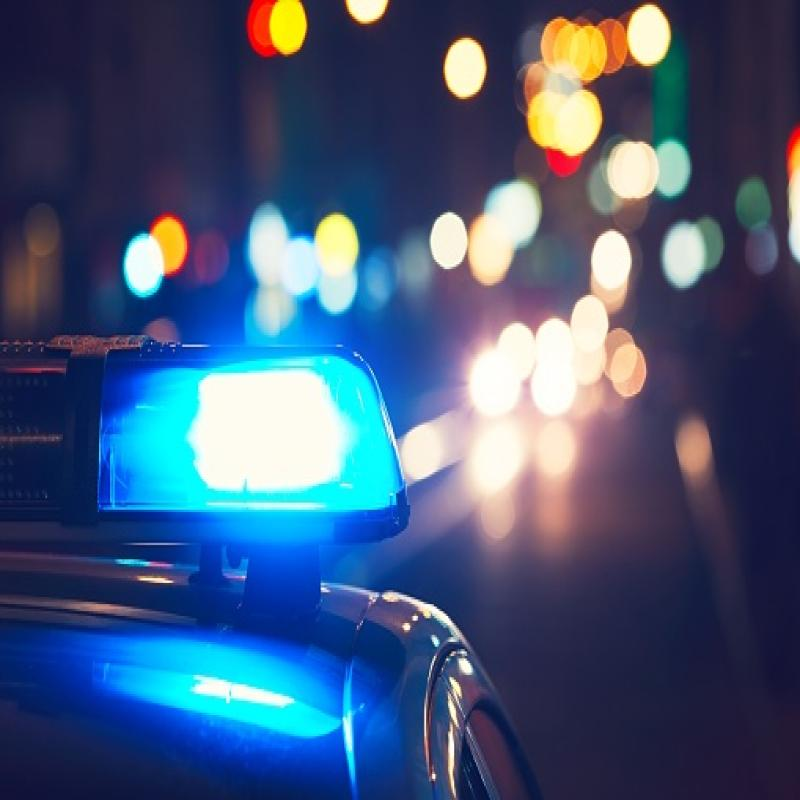AmbulanceSiren: (0, 290, 439, 560)
